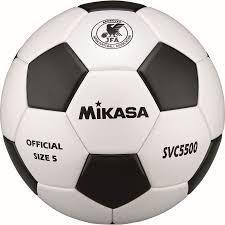Sports-Ball: (0, 2, 225, 222)
